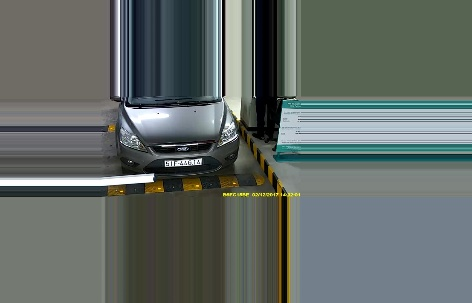plate: (164, 157, 204, 169)
